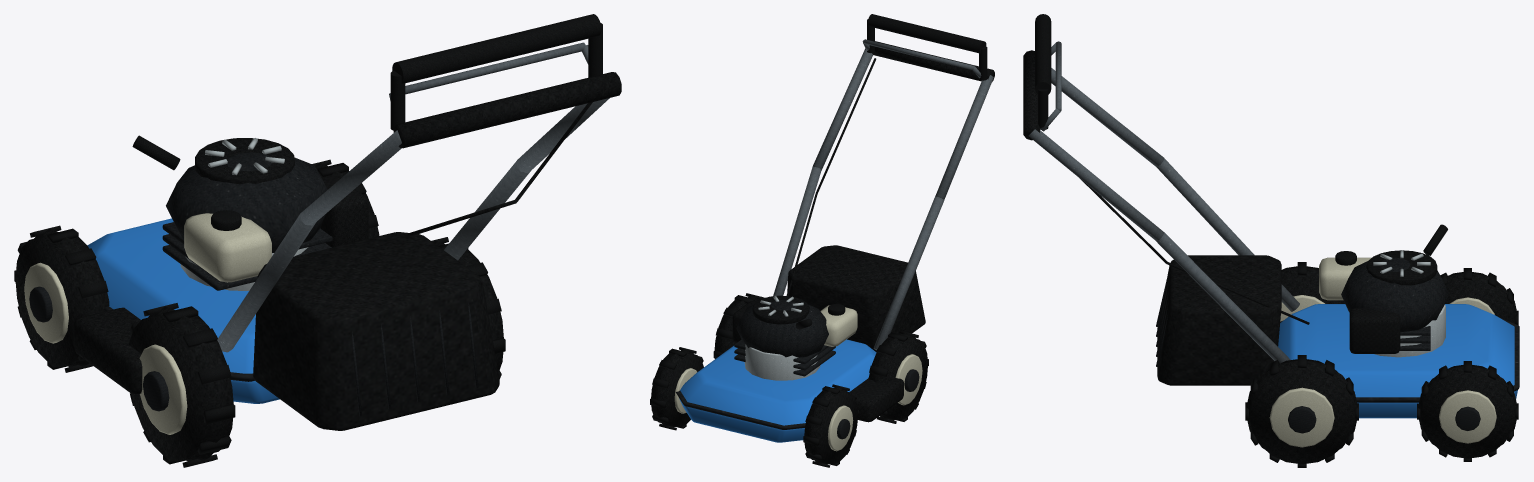
The model's file is SelfPropelledMower.gltf.
The picture shows the model from 3 angles, left to right: view 1: azimuth 30°, elevation 25°; view 2: azimuth 150°, elevation 25°; view 3: azimuth 270°, elevation 25°; orthographic projection. The views are drawn at different scales.
Visible parts, largest first — view 1: SelfPropelledMower__Body, SelfPropelledMower__Wheel_Rear_R, SelfPropelledMower__Wheel_Front_R, SelfPropelledMower__Wheel_Rear_L, SelfPropelledMower__Wheel_Front_L; view 2: SelfPropelledMower__Body, SelfPropelledMower__Wheel_Front_R, SelfPropelledMower__Wheel_Rear_R, SelfPropelledMower__Wheel_Front_L, SelfPropelledMower__Wheel_Rear_L; view 3: SelfPropelledMower__Body, SelfPropelledMower__Wheel_Rear_L, SelfPropelledMower__Wheel_Front_L, SelfPropelledMower__Wheel_Front_R, SelfPropelledMower__Wheel_Rear_R.
Part boxes in pixels (x1,y1,x2,y2): SelfPropelledMower__Body: [73, 14, 621, 430]; SelfPropelledMower__Wheel_Rear_R: [129, 303, 235, 467]; SelfPropelledMower__Wheel_Front_R: [14, 225, 109, 372]; SelfPropelledMower__Wheel_Rear_L: [431, 237, 505, 379]; SelfPropelledMower__Wheel_Front_L: [312, 159, 379, 238]; SelfPropelledMower__Body: [676, 14, 994, 442]; SelfPropelledMower__Wheel_Front_R: [803, 384, 858, 467]; SelfPropelledMower__Wheel_Rear_R: [868, 330, 928, 423]; SelfPropelledMower__Wheel_Front_L: [650, 347, 703, 430]; SelfPropelledMower__Wheel_Rear_L: [713, 293, 764, 358]; SelfPropelledMower__Body: [1023, 14, 1519, 418]; SelfPropelledMower__Wheel_Rear_L: [1245, 355, 1358, 467]; SelfPropelledMower__Wheel_Front_L: [1417, 361, 1518, 461]; SelfPropelledMower__Wheel_Front_R: [1440, 268, 1518, 325]; SelfPropelledMower__Wheel_Rear_R: [1280, 262, 1344, 321].
Bounding box in the file's own units: 0.7939 × 1.2 × 1.47.
3 materials, 2 textured.
